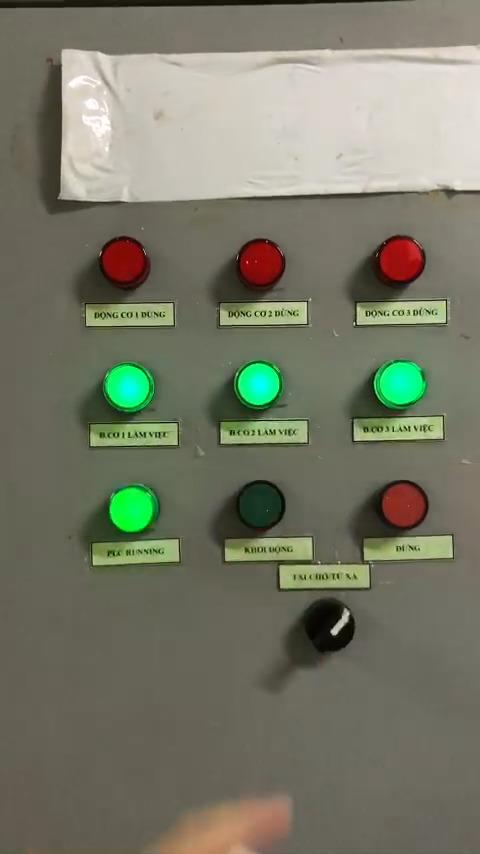led: (227, 472, 295, 533), (95, 231, 157, 294), (97, 356, 159, 418), (233, 231, 294, 293), (373, 476, 436, 534), (370, 355, 430, 415), (104, 481, 163, 539), (373, 230, 431, 288), (229, 356, 286, 415)
twist: (302, 594, 361, 656)
